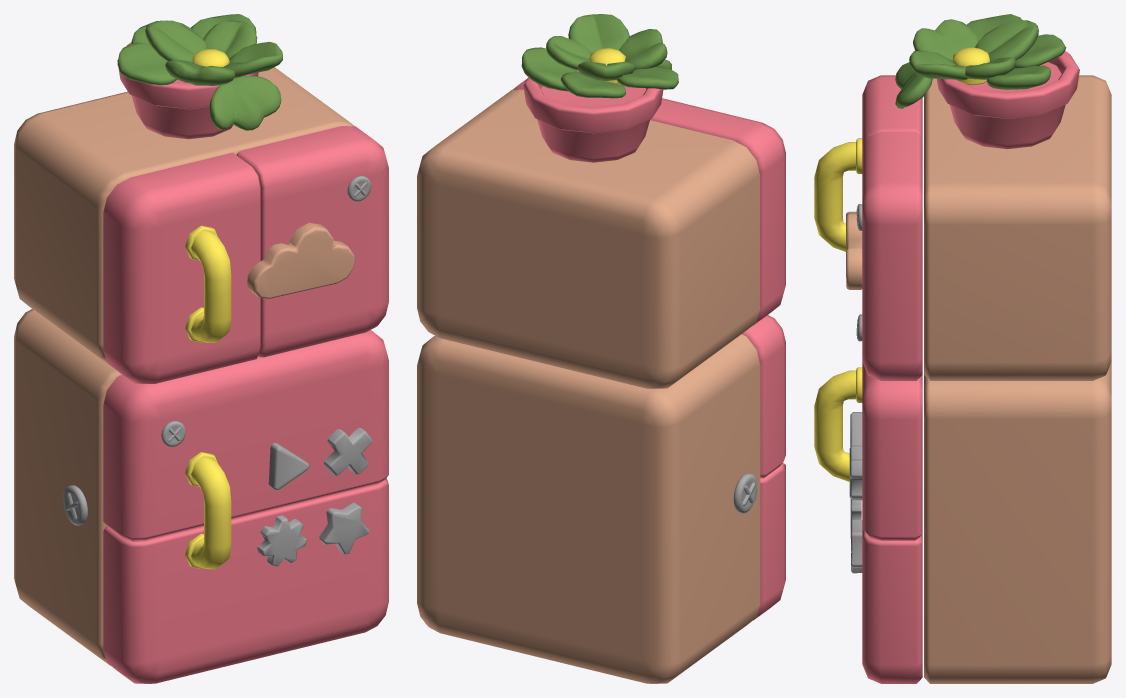
Rendered from Panasonic.fbx.
3 renders of one model, left to right at view 1: azimuth 30°, elevation 25°; view 2: azimuth 150°, elevation 25°; view 3: azimuth 270°, elevation 25°, orthographic. The views are drawn at different scales.
Parts seen in each view (by area): view 1: S_Panasonic, S_panasonic_3, S_panasonic_9, S_panasonic_8, S_panasonic_, D_Panasonic_14, D_Panasonic_24, D_Panasonic_2, S_panasonic_4, S_panasonic_7, S_panasonic_1, D_Panasonic_1 (+2 smaller); view 2: S_Panasonic, S_panasonic_3, S_panasonic_4, S_panasonic_1, S_panasonic_6, S_panasonic_2, S_panasonic_, S_panasonic_7, S_panasonic_8, D_Panasonic_31; view 3: S_Panasonic, S_panasonic_3, S_panasonic_8, S_panasonic_1, S_panasonic_4, S_panasonic_6, S_panasonic_9, S_panasonic_2, S_panasonic_7, D_Panasonic_24, S_panasonic_5, D_Panasonic_2 (+1 smaller).
Boxes of the visible parts, x1,y1,x2,y2 form: S_Panasonic: (14,67,388,683); S_panasonic_3: (117,42,258,139); S_panasonic_9: (209,75,281,130); S_panasonic_8: (145,20,206,62); S_panasonic_: (117,42,176,85); D_Panasonic_14: (257,515,306,566); D_Panasonic_24: (324,428,372,475); D_Panasonic_2: (319,502,369,554); S_panasonic_4: (224,42,282,78); S_panasonic_7: (203,20,257,59); S_panasonic_1: (165,59,235,85); D_Panasonic_1: (268,443,309,490); S_Panasonic: (417,78,785,683); S_panasonic_3: (523,70,663,162); S_panasonic_4: (568,14,629,53); S_panasonic_1: (619,29,667,69); S_panasonic_6: (521,47,576,91); S_panasonic_2: (560,71,625,98); S_panasonic_: (616,67,678,89); S_panasonic_7: (546,36,591,69); S_panasonic_8: (578,61,634,80); D_Panasonic_31: (733,473,757,513); S_Panasonic: (814,75,1111,683); S_panasonic_3: (937,51,1079,149); S_panasonic_8: (975,19,1038,61); S_panasonic_1: (913,19,978,60); S_panasonic_4: (909,51,967,80); S_panasonic_6: (986,65,1050,89); S_panasonic_9: (895,62,932,108); S_panasonic_2: (1014,34,1066,68); S_panasonic_7: (965,57,1015,79); D_Panasonic_24: (849,445,862,500); S_panasonic_5: (952,47,989,85); D_Panasonic_2: (851,520,862,573).
Size of the model in its own units: 369 by 754 by 343.
